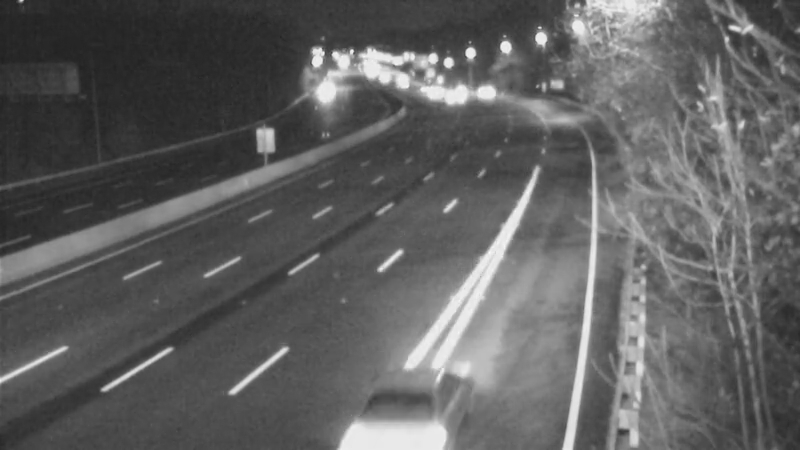vehicle: (337, 356, 447, 450), (438, 65, 488, 115), (460, 66, 510, 116), (423, 70, 473, 120)
